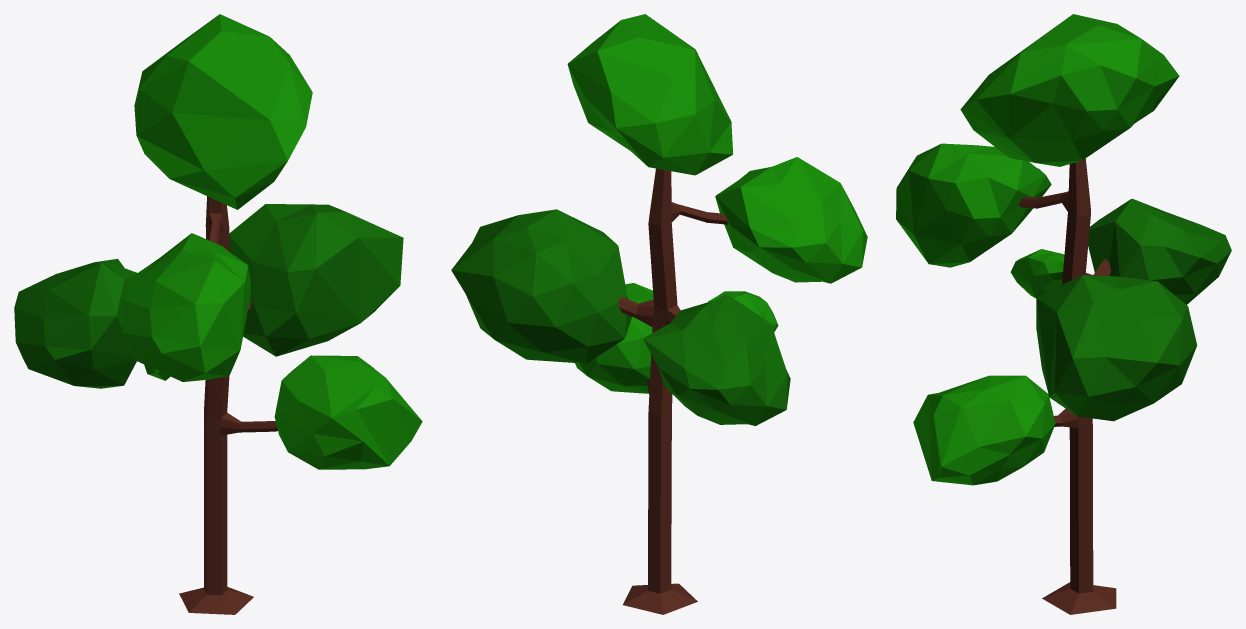
The model's file is tree7.fbx.
3 renders of one model, left to right at view 1: azimuth 30°, elevation 25°; view 2: azimuth 150°, elevation 25°; view 3: azimuth 270°, elevation 25°, orthographic. The views are drawn at different scales.
Parts seen in each view (by area): view 1: Tree1.003; view 2: Tree1.003; view 3: Tree1.003.
Part boxes in pixels (<box>): Tree1.003: <box>14,14,422,614</box>; Tree1.003: <box>451,14,867,614</box>; Tree1.003: <box>896,14,1231,614</box>.
Bounding box in the file's own units: 11.31 × 17.7 × 9.3.
